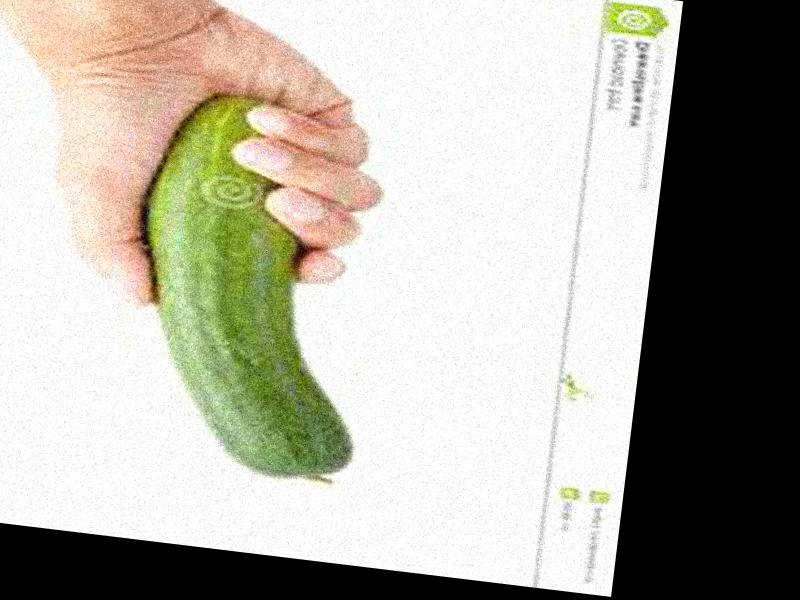Cucumber: (122, 88, 394, 488)
